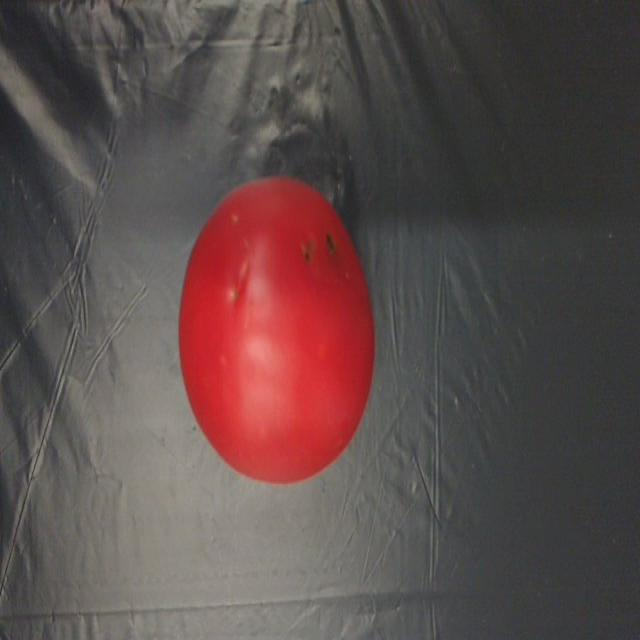kirmizi: (157, 164, 396, 493)
